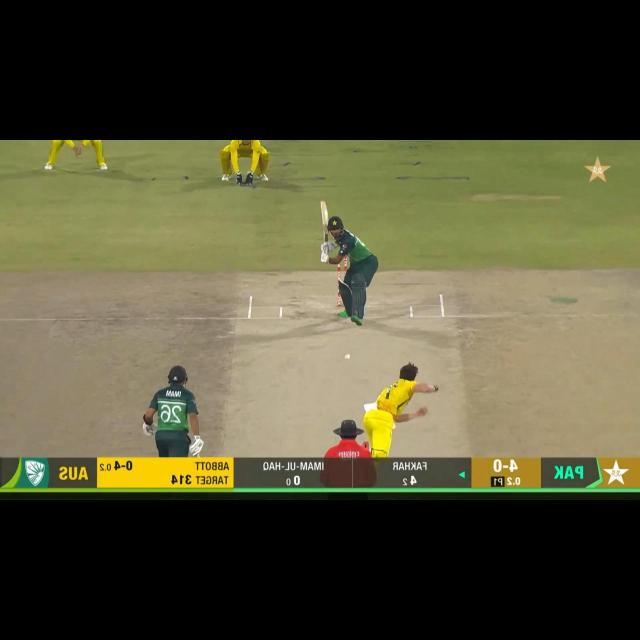bat: (320, 200, 330, 243)
toe: (319, 201, 328, 206)
